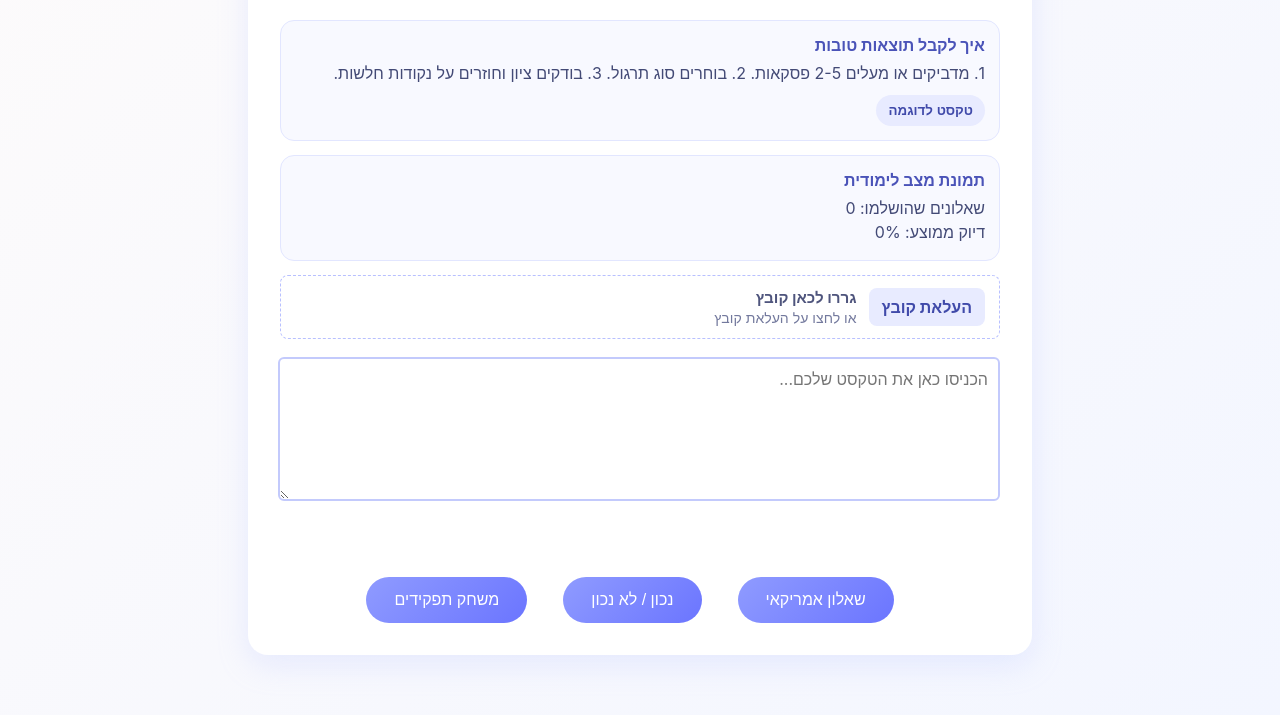
Test: HomePage Component › shows error if quiz button clicked with empty text
(page scrolled)
Click the button "שאלון אמריקאי" at (816, 600), box x1=738 y1=577 x2=894 y2=623
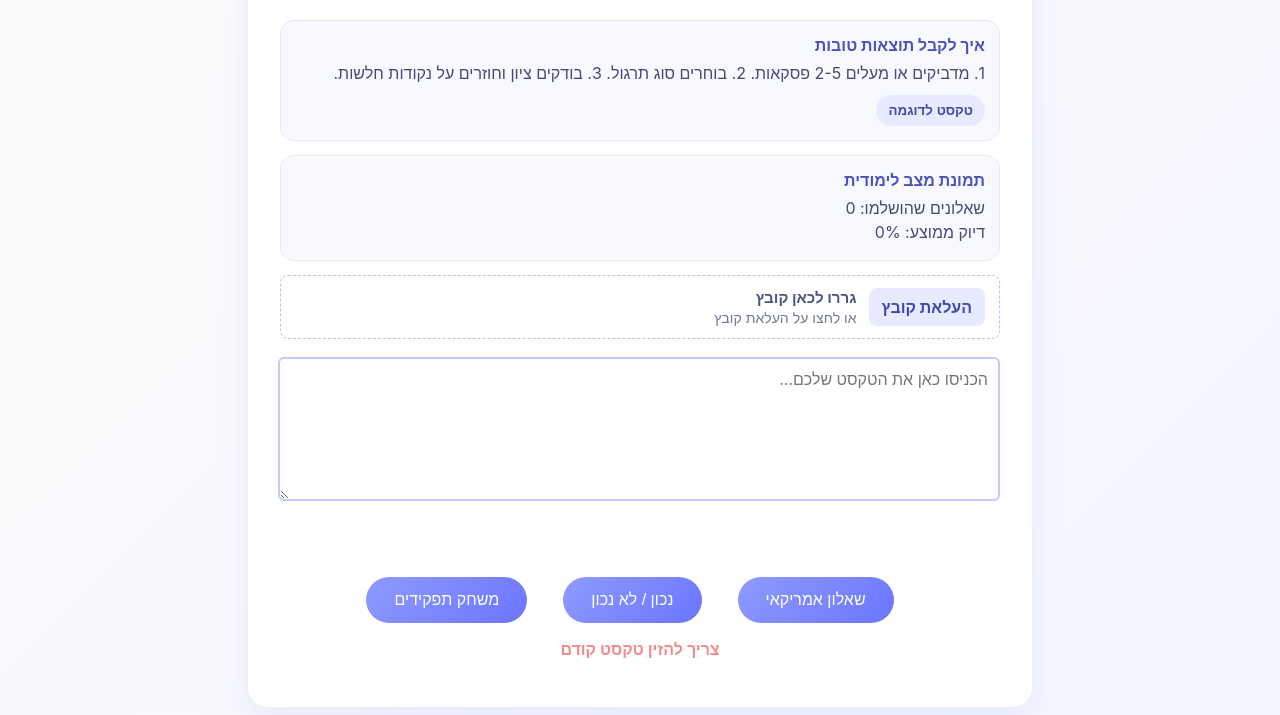
Now the text "צריך להזין טקסט קודם" is shown, box x1=560 y1=639 x2=720 y2=659
